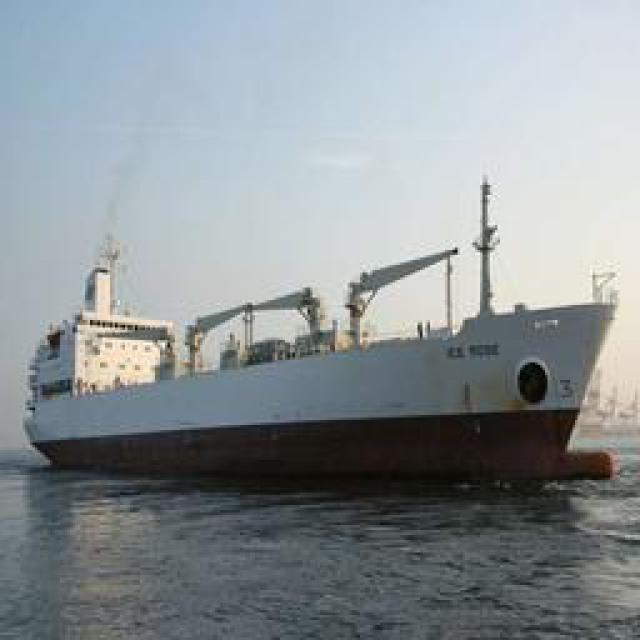Ship: (18, 162, 626, 490)
